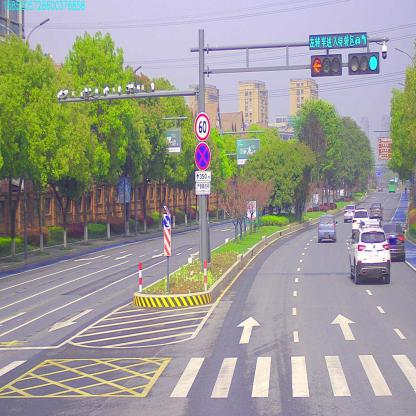traffic-light: (311, 34, 371, 51), (347, 56, 381, 78), (309, 59, 342, 79)
